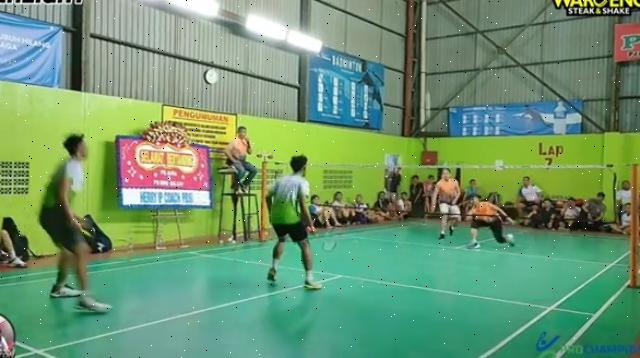Shuttlecock: (422, 96, 436, 117)
